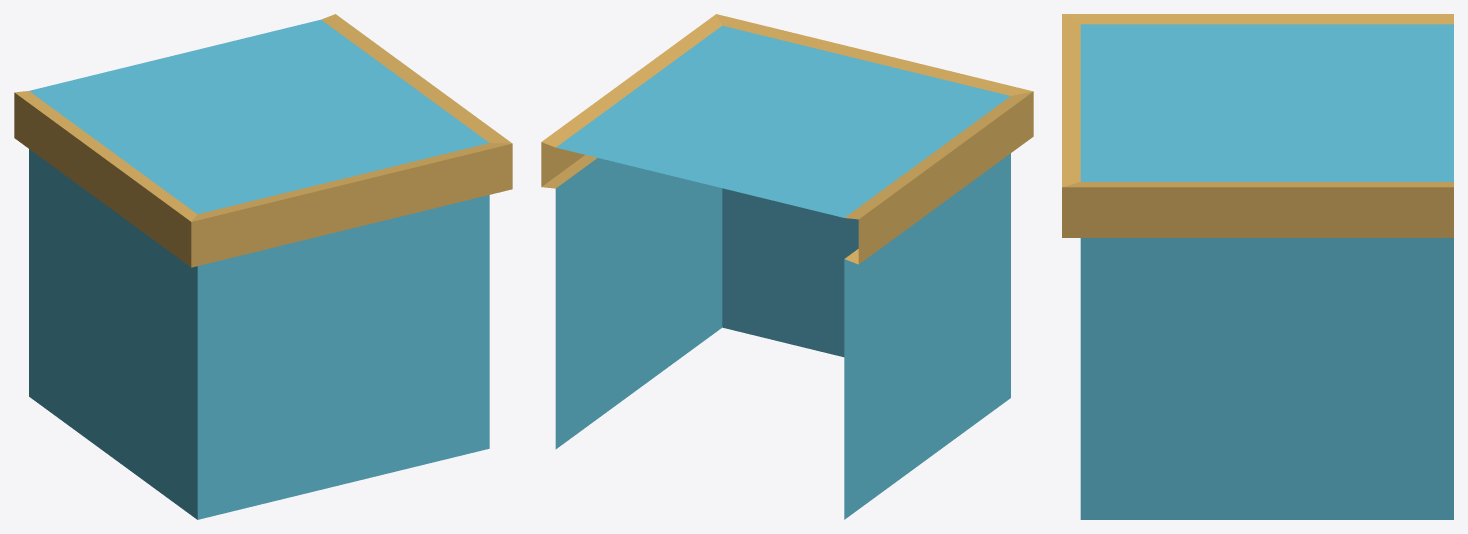
Rendered from SmallTH_Roof_Outer.fbx.
3 renders of one model, left to right at view 1: azimuth 30°, elevation 25°; view 2: azimuth 150°, elevation 25°; view 3: azimuth 270°, elevation 25°, orthographic. The views are drawn at different scales.
Visible parts, largest first — view 1: SmallTH_Roof_Outer; view 2: SmallTH_Roof_Outer; view 3: SmallTH_Roof_Outer.
Boxes of the visible parts, bbox=[...] form: SmallTH_Roof_Outer: bbox=[14, 14, 512, 519]; SmallTH_Roof_Outer: bbox=[541, 14, 1033, 519]; SmallTH_Roof_Outer: bbox=[1062, 14, 1453, 519].
Bounding box in the file's own units: 2.2 × 2.01 × 2.1.
